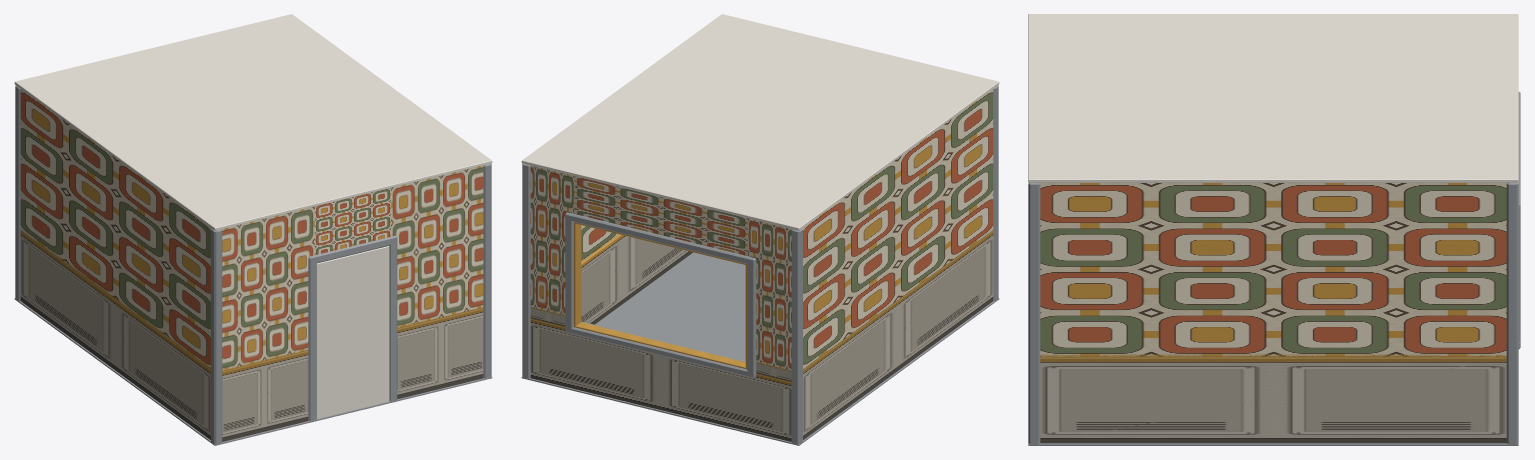
Rendered from room_shell.glb.
The picture shows the model from 3 angles, left to right: view 1: azimuth 30°, elevation 25°; view 2: azimuth 150°, elevation 25°; view 3: azimuth 270°, elevation 25°; orthographic projection. The views are drawn at different scales.
Visible parts, largest first — view 1: Ceiling_HullDeck, Wall_South_Wallpaper, Wall_West_Wallpaper, Wall_West_Wainscoting, Wall_South_Wainscoting, Door_South_SlidingPanel, Columns_CornerBulkheads, Doorframe_South_Bulkhead, Floor_StructuralSlab-col, Trim_BrassDadoRail; view 2: Ceiling_HullDeck, Wall_West_Wallpaper, Wall_North_Wallpaper, Wall_North_Wainscoting, Wall_West_Wainscoting, Floor_StructuralSlab-col, Columns_CornerBulkheads, Viewport_North_Frame, Wall_East_Wainscoting, Viewport_North_BrassBezel, Wall_East_Wallpaper; view 3: Ceiling_HullDeck, Wall_East_Wallpaper, Wall_East_Wainscoting, Columns_CornerBulkheads, Trim_BrassDadoRail, Floor_StructuralSlab-col, Viewport_North_Frame.
Part boxes in pixels (left/top/right/bottom): Ceiling_HullDeck: left=14, top=14, right=492, bottom=230; Wall_South_Wallpaper: left=214, top=163, right=491, bottom=370; Wall_West_Wallpaper: left=20, top=88, right=216, bottom=367; Wall_West_Wainscoting: left=20, top=230, right=210, bottom=439; Wall_South_Wainscoting: left=222, top=307, right=483, bottom=441; Door_South_SlidingPanel: left=316, top=246, right=389, bottom=418; Columns_CornerBulkheads: left=15, top=85, right=491, bottom=444; Doorframe_South_Bulkhead: left=308, top=235, right=397, bottom=421; Floor_StructuralSlab-col: left=14, top=298, right=492, bottom=445; Trim_BrassDadoRail: left=22, top=231, right=457, bottom=371; Ceiling_HullDeck: left=521, top=14, right=999, bottom=230; Wall_West_Wallpaper: left=797, top=88, right=993, bottom=368; Wall_North_Wallpaper: left=522, top=163, right=799, bottom=370; Wall_North_Wainscoting: left=530, top=307, right=791, bottom=441; Wall_West_Wainscoting: left=803, top=230, right=993, bottom=439; Floor_StructuralSlab-col: left=521, top=252, right=999, bottom=445; Columns_CornerBulkheads: left=522, top=85, right=998, bottom=444; Viewport_North_Frame: left=565, top=212, right=756, bottom=377; Wall_East_Wainscoting: left=581, top=235, right=692, bottom=324; Viewport_North_BrassBezel: left=574, top=222, right=746, bottom=369; Wall_East_Wallpaper: left=581, top=225, right=618, bottom=261; Ceiling_HullDeck: left=1028, top=14, right=1518, bottom=182; Wall_East_Wallpaper: left=1028, top=182, right=1518, bottom=356; Wall_East_Wainscoting: left=1040, top=356, right=1506, bottom=443; Columns_CornerBulkheads: left=1028, top=183, right=1518, bottom=444; Trim_BrassDadoRail: left=1040, top=354, right=1506, bottom=357; Floor_StructuralSlab-col: left=1028, top=443, right=1518, bottom=445; Viewport_North_Frame: left=1518, top=91, right=1520, bottom=349.
Bounding box in the file's own units: 4 × 3 × 5.02.
7 materials, 4 textured.
